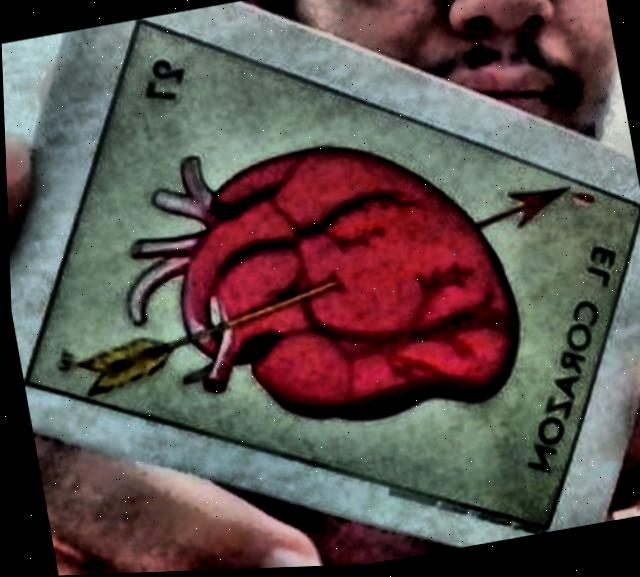El Corazon: (23, 23, 639, 529)
